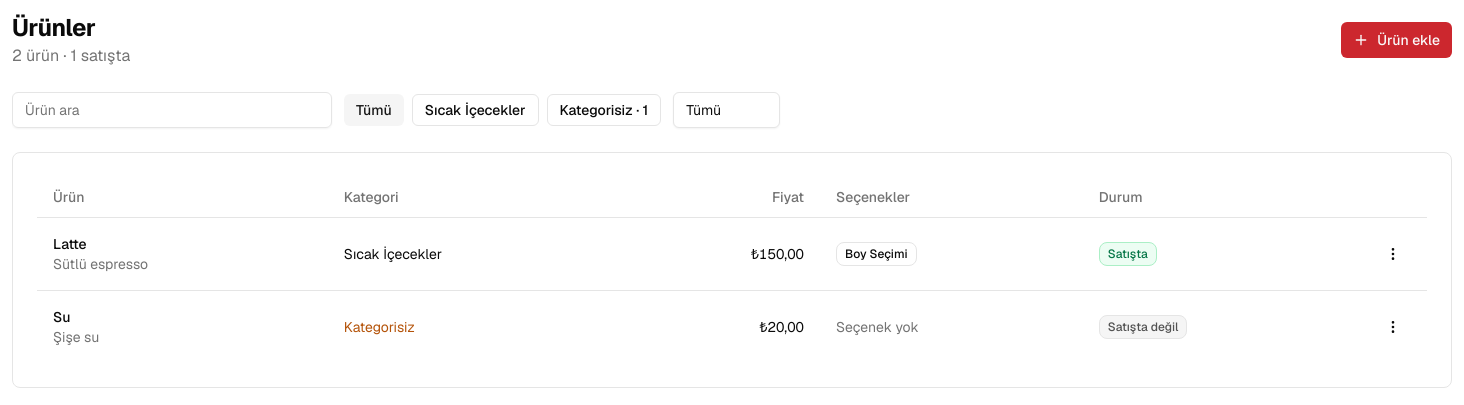
ProductsPage › filters by category chip
Expected: the link "Latte" is shown, 53,234 -> 86,252
Click the button "Kategorisiz · 1" at (604, 110), box 546,94 -> 661,126
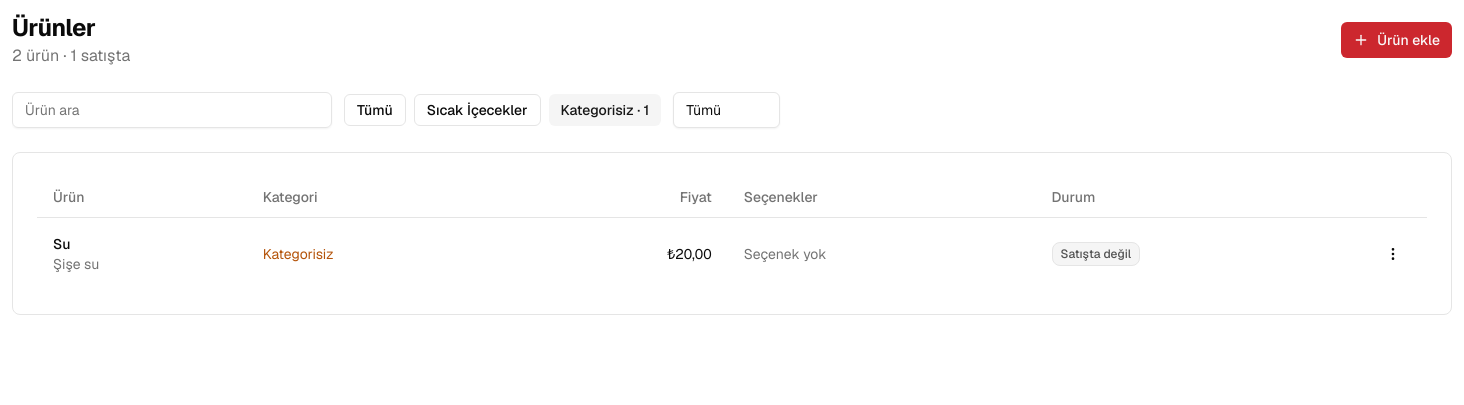
Expected: the link "Su" is shown, 53,234 -> 70,252
Result: the link "Latte" is gone
